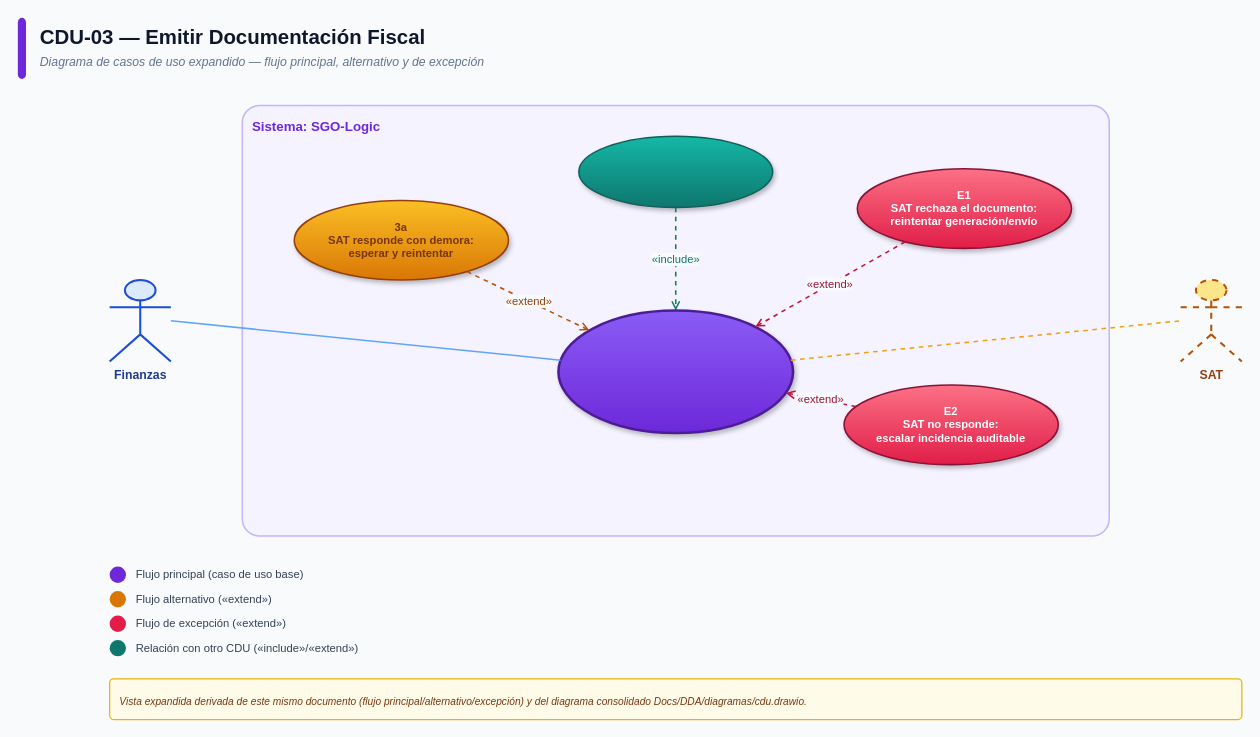
Image size: 1260x737. Some labels were removed from this diagram. The centre of each missing label's shape, as x and y in pixels:
CDU-02 Procesar Pago de la Orden: point (676, 173)
CDU-03 Emitir Documentación Fiscal: point (676, 373)
